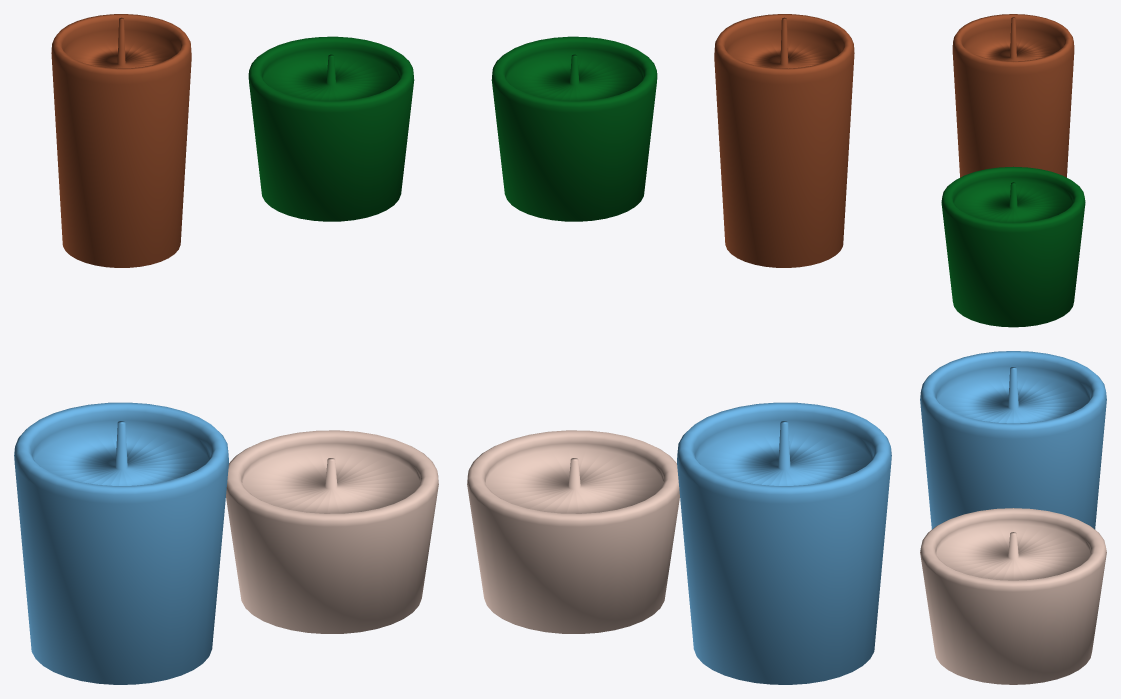
File: candles.fbx
3 renders of one model, left to right at view 1: azimuth 30°, elevation 25°; view 2: azimuth 150°, elevation 25°; view 3: azimuth 270°, elevation 25°, orthographic. The views are drawn at different scales.
Visible parts, largest first — view 1: Cylinder.027, Cylinder.026, Cylinder.028, Cylinder.029; view 2: Cylinder.027, Cylinder.026, Cylinder.028, Cylinder.029; view 3: Cylinder.026, Cylinder.027, Cylinder.029, Cylinder.028.
Boxes of the visible parts, left/top/right/bottom form: Cylinder.027: left=14, top=402, right=228, bottom=684; Cylinder.026: left=226, top=430, right=438, bottom=633; Cylinder.028: left=51, top=14, right=191, bottom=267; Cylinder.029: left=248, top=36, right=414, bottom=221; Cylinder.027: left=677, top=402, right=891, bottom=684; Cylinder.026: left=467, top=430, right=679, bottom=633; Cylinder.028: left=714, top=14, right=854, bottom=267; Cylinder.029: left=491, top=36, right=657, bottom=221; Cylinder.026: left=920, top=508, right=1106, bottom=684; Cylinder.027: left=920, top=351, right=1106, bottom=529; Cylinder.029: left=941, top=166, right=1085, bottom=327; Cylinder.028: left=952, top=14, right=1074, bottom=177.
Size of the model in its own units: 50.44 by 76.39 by 23.75.
